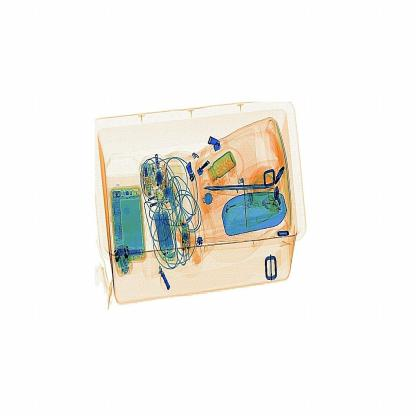wrench: (197, 179, 277, 198)
